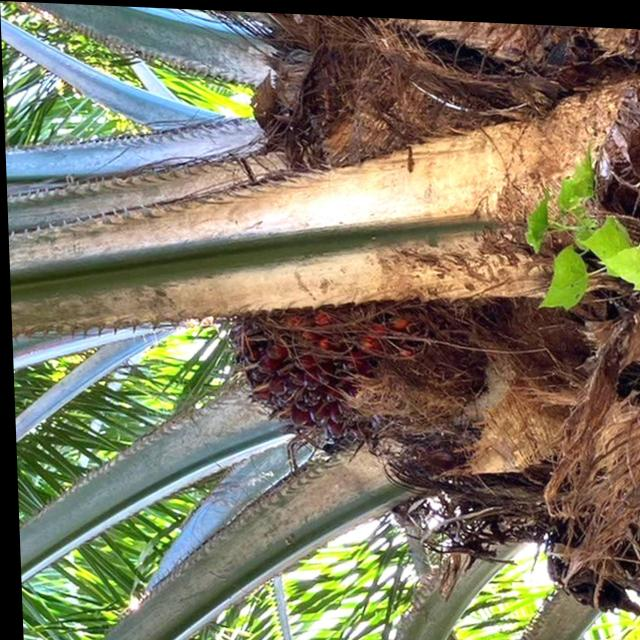ripe: (225, 294, 458, 467)
